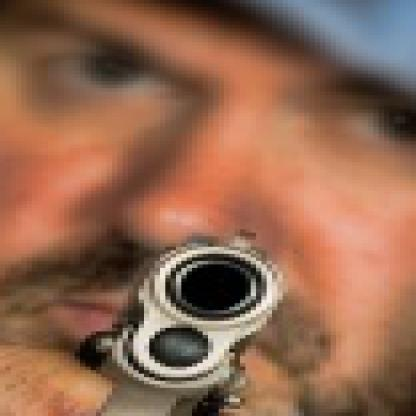gun: (70, 232, 294, 412)
